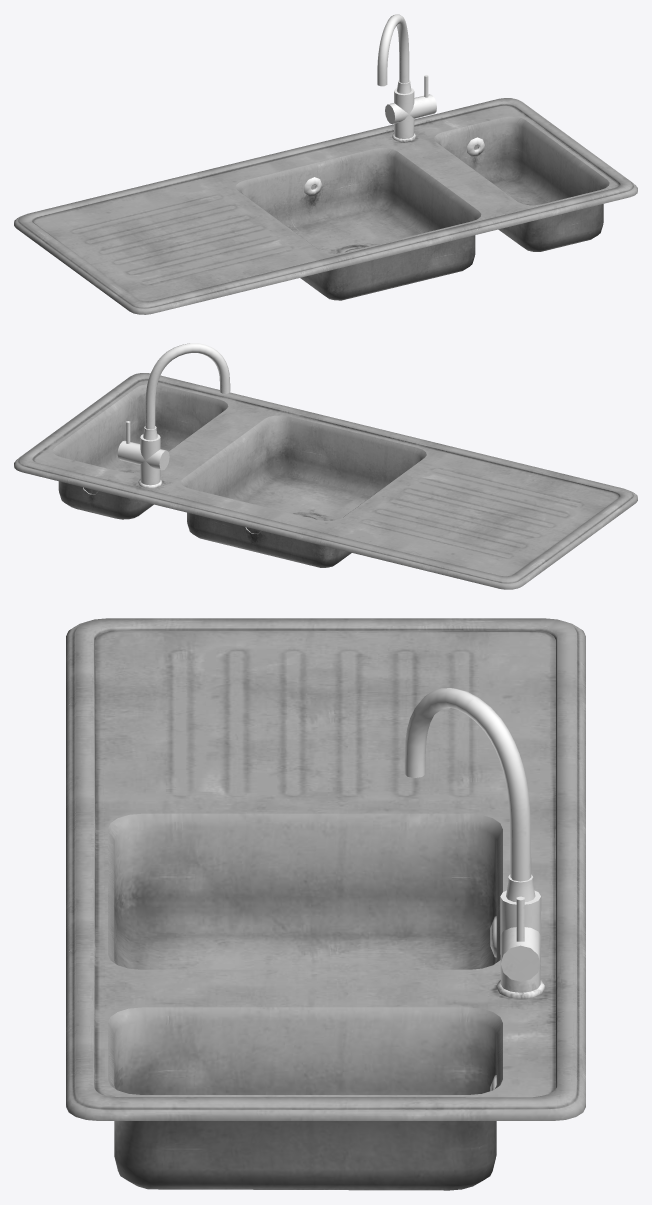
Rendered from sink.glb.
3 renders of one model, top to bottom at view 1: azimuth 30°, elevation 25°; view 2: azimuth 150°, elevation 25°; view 3: azimuth 270°, elevation 25°, orthographic. The views are drawn at different scales.
Visible parts, largest first — view 1: Sink_Kitchen_A; view 2: Sink_Kitchen_A; view 3: Sink_Kitchen_A.
Boxes of the visible parts, left/top/right/bottom form: Sink_Kitchen_A: left=14, top=14, right=637, bottom=314; Sink_Kitchen_A: left=14, top=343, right=637, bottom=589; Sink_Kitchen_A: left=66, top=618, right=585, bottom=1190.
Size of the model in its own units: 1.45 by 0.5364 by 0.6429.
1 material, 1 textured.
